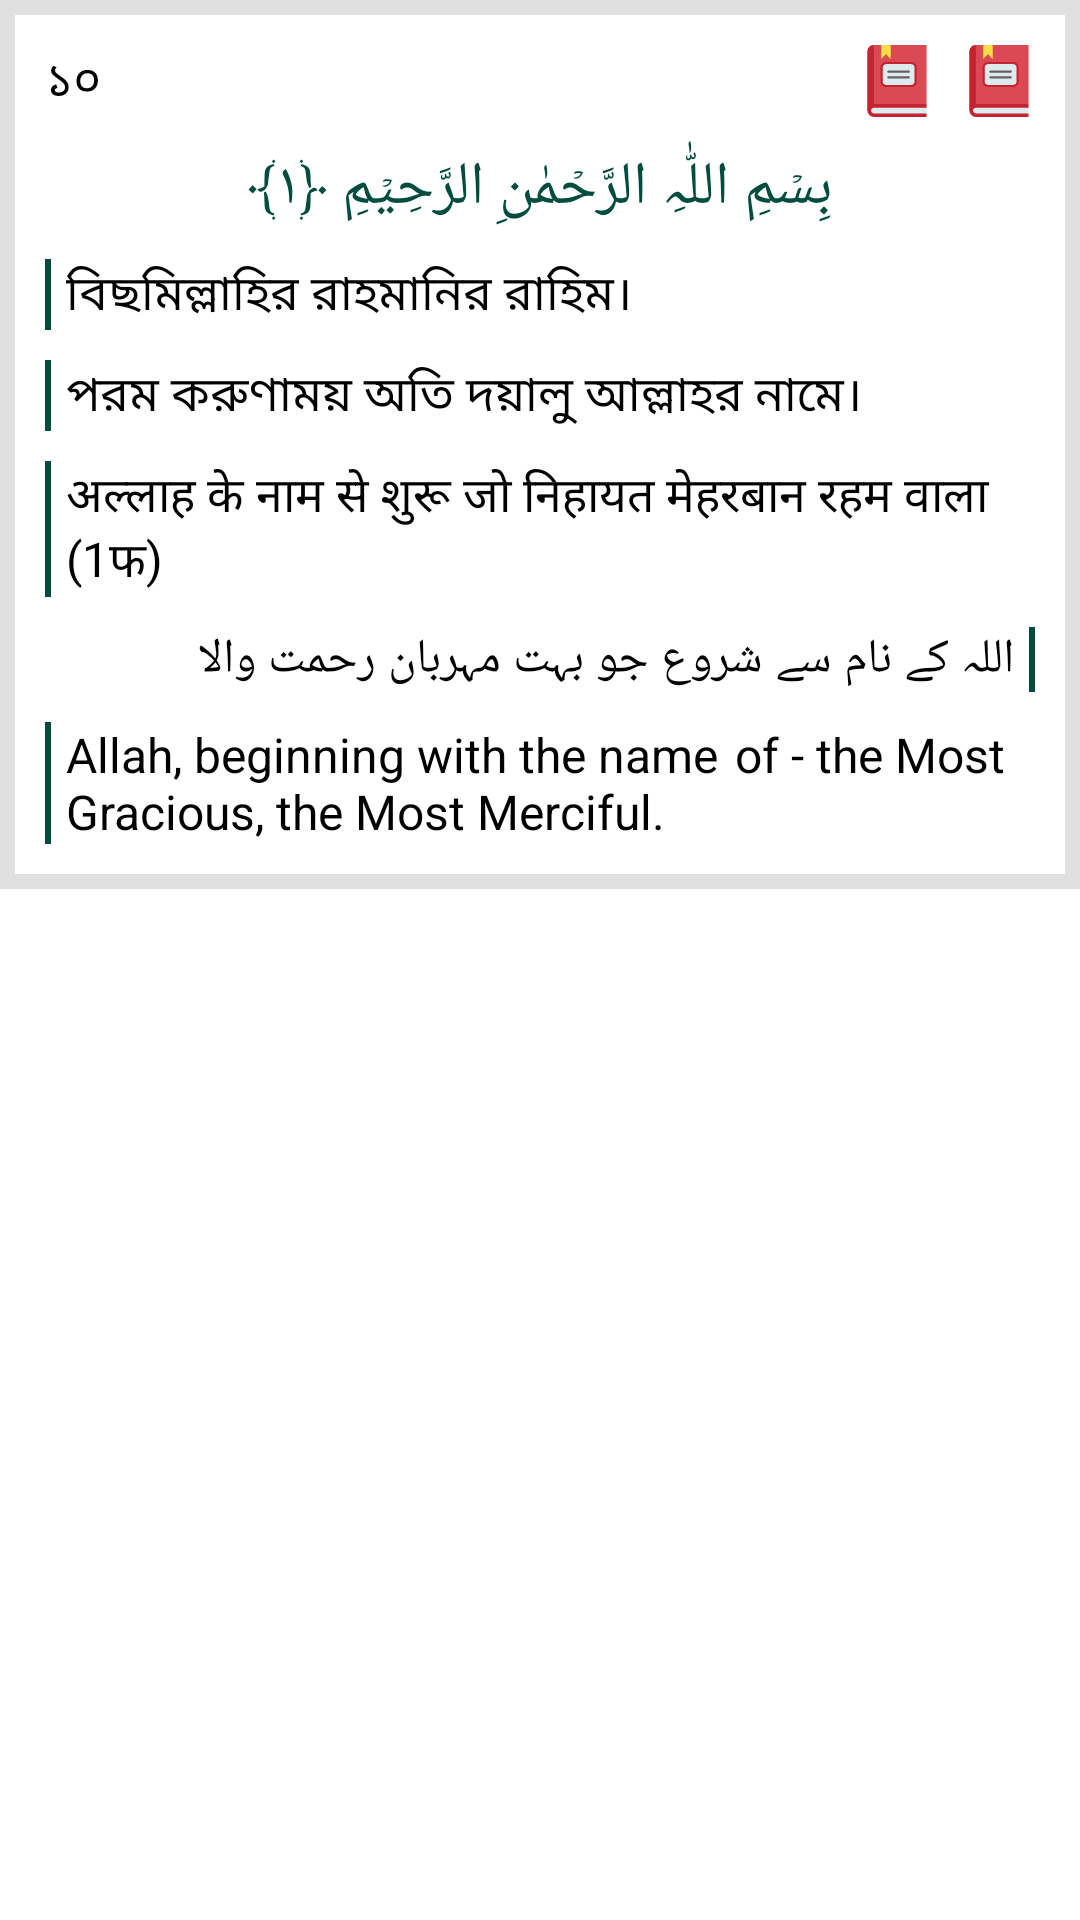

Icons on this 1080 x 1920 Android screen, each with the point to tap as point (x, y):
book: point (897, 81), point (999, 81)
